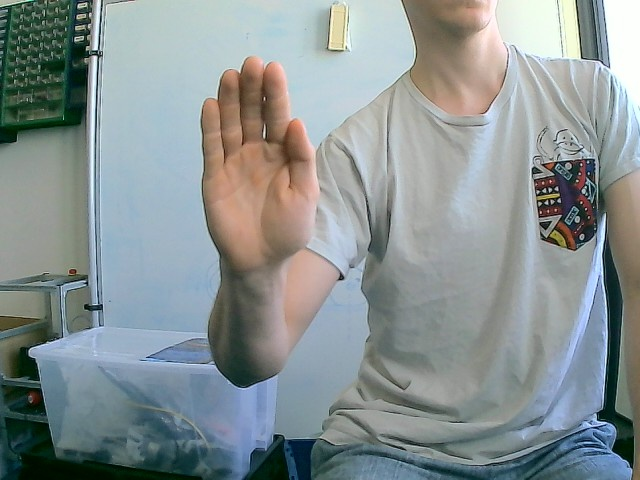stop: (199, 55, 321, 272)
